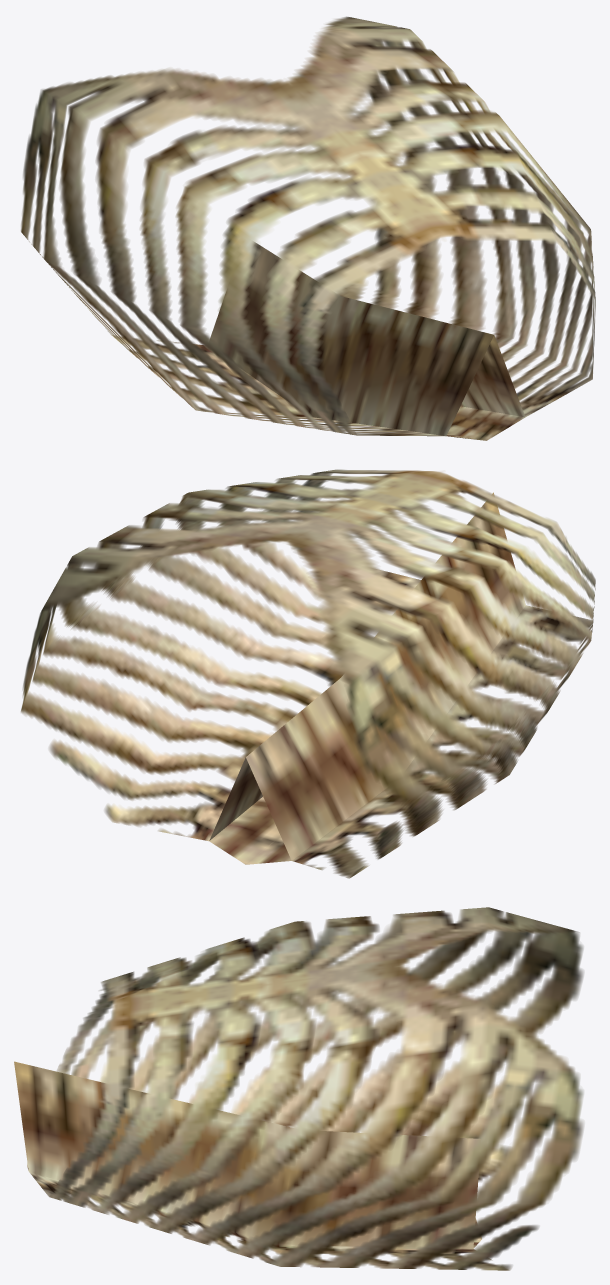
File: hr_ps_bone6.glb
The picture shows the model from 3 angles, top to bottom: view 1: azimuth 30°, elevation 25°; view 2: azimuth 150°, elevation 25°; view 3: azimuth 270°, elevation 25°; orthographic projection. The views are drawn at different scales.
Visible parts, largest first — view 1: hr_ps_bone6; view 2: hr_ps_bone6; view 3: hr_ps_bone6.
Part boxes in pixels (x1,y1,x2,y2): hr_ps_bone6: (21, 16, 595, 440); hr_ps_bone6: (21, 469, 595, 878); hr_ps_bone6: (14, 907, 583, 1270).
Bounding box in the file's own units: 0.4823 × 0.3103 × 0.5914.
Materials: 1 (1 with a texture image).
